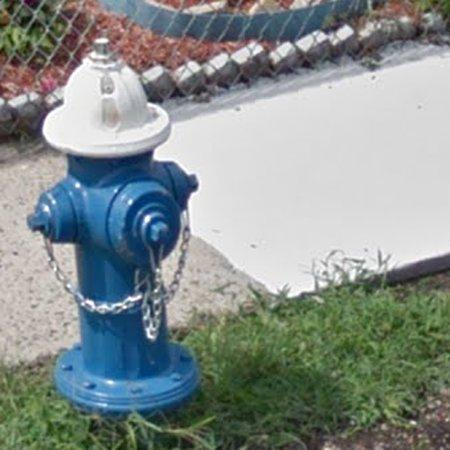a fire hydrant: (28, 38, 199, 415)
